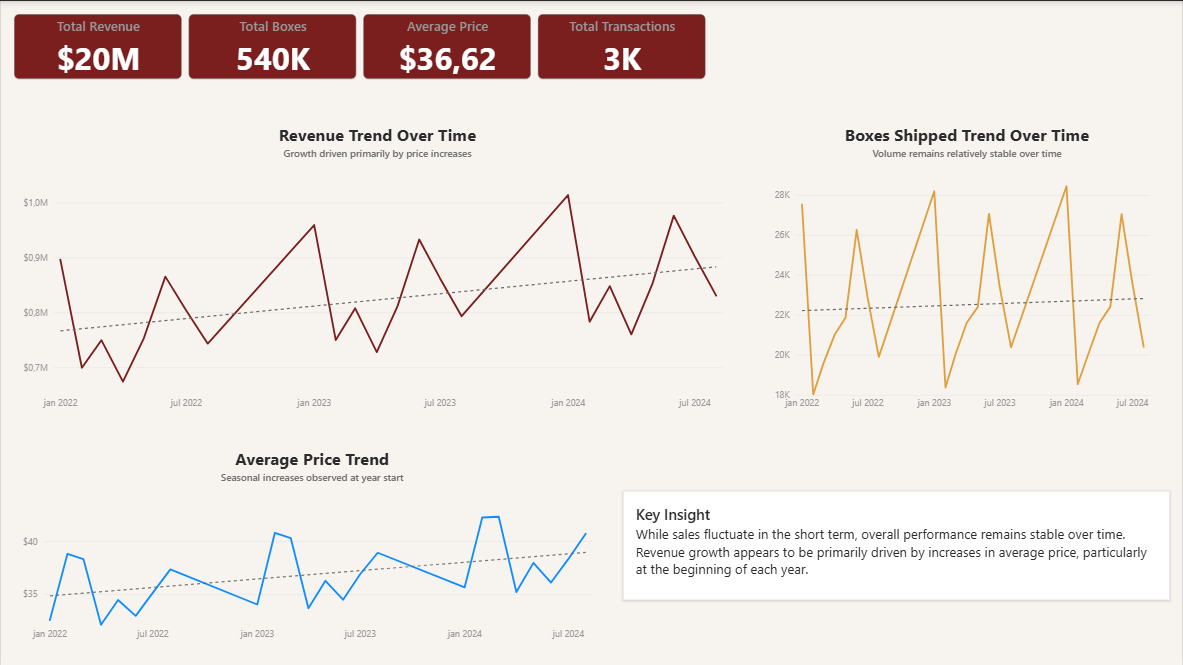

This screenshot's page, from the dashboard's own definition file:
{"tool":"powerbi","page":{"name":"Overview","canvas":[1920,1080],"ordinal":0},"visuals":[{"type":"cardVisual","fields":{"Data":["Measure Table.Total Revenue","Measure Table.Total Boxes","Measure Table.Average Price","Measure Table.Total Transactions"]},"box":[20,20,1129.6,109.8],"z":0},{"type":"lineChart","title":"Revenue Trend Over Time","fields":{"Category":["choco_sales (1).Start of Year","choco_sales (1).Start of Month","choco_sales (1).Start of Week"],"Y":["Measure Table.Total Revenue"]},"box":[20,185.4,1185.8,500.2],"z":1000},{"type":"lineChart","title":"Average Price Trend","fields":{"Category":["choco_sales (1).Start of Year","choco_sales (1).Start of Month","choco_sales (1).Start of Week"],"Y":["Measure Table.Average Price"]},"box":[20,712,973.5,348.9],"z":2000},{"type":"lineChart","title":"Boxes Shipped Trend Over Time","fields":{"Category":["choco_sales (1).Start of Year","choco_sales (1).Start of Month","choco_sales (1).Start of Week"],"Y":["Measure Table.Total Boxes"]},"box":[1242,185.4,658.8,500.2],"z":3000},{"type":"textbox","title":"Key Insight","box":[1012.5,797.8,888.1,175.7],"z":4000}]}

Visuals, with their boxes in screenshot pixels (x1, y1, x2, y2), scaled from the page's 1920x1080 canvas onto the 1183x665 screenshot:
cardVisual - Measure Table.Total Revenue x Measure Table.Total Boxes: box=[12, 12, 708, 80]
"Revenue Trend Over Time" lineChart: box=[12, 114, 743, 422]
"Average Price Trend" lineChart: box=[12, 438, 612, 653]
"Boxes Shipped Trend Over Time" lineChart: box=[765, 114, 1171, 422]
"Key Insight" textbox: box=[624, 491, 1171, 599]
